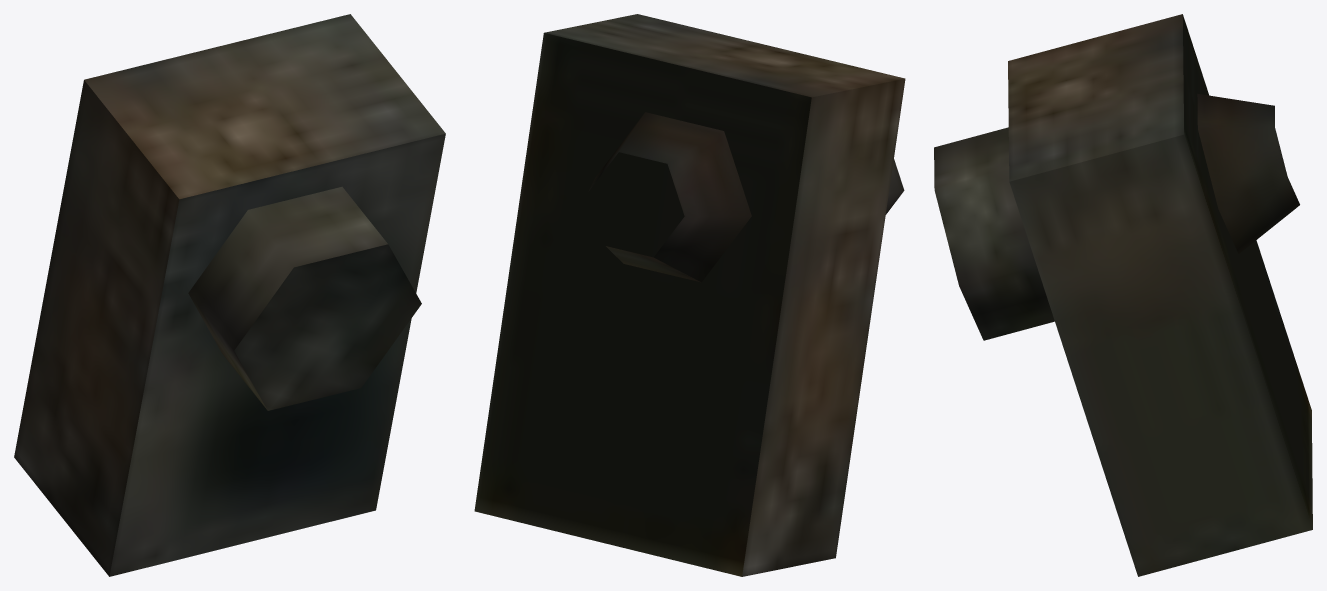
Rendered from prop_flak88_piece1.glb.
The picture shows the model from 3 angles, left to right: view 1: azimuth 30°, elevation 25°; view 2: azimuth 150°, elevation 25°; view 3: azimuth 270°, elevation 25°; orthographic projection. The views are drawn at different scales.
Bounding box in the file's own units: 11.56 × 19.74 × 15.3.
Materials: 1 (1 with a texture image).
